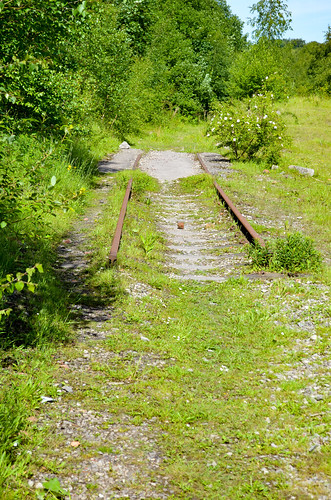train track: (100, 126, 270, 309)
vegetation: (1, 1, 331, 280)
